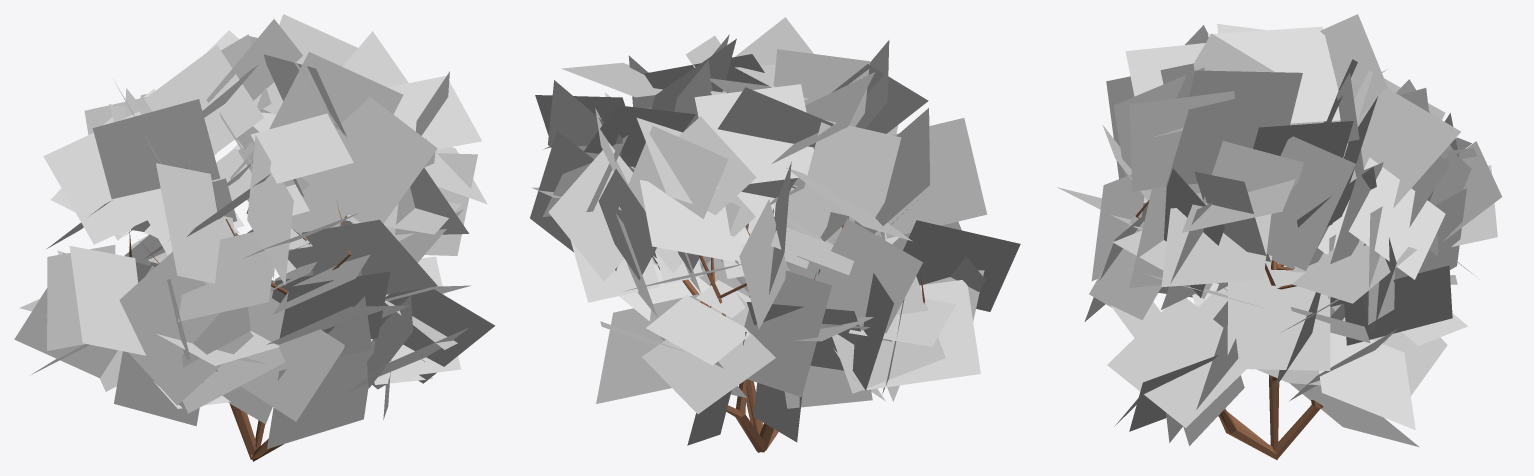
Rendered from bush.glb.
The picture shows the model from 3 angles, left to right: view 1: azimuth 30°, elevation 25°; view 2: azimuth 150°, elevation 25°; view 3: azimuth 270°, elevation 25°; orthographic projection. The views are drawn at different scales.
Visible parts, largest first — view 1: leaves1, wood1; view 2: leaves1, wood1; view 3: leaves1, wood1.
Boxes of the visible parts, <box> form: leaves1: <box>14,14,494,448</box>; wood1: <box>129,165,351,461</box>; leaves1: <box>530,17,1020,445</box>; wood1: <box>652,200,924,452</box>; leaves1: <box>1057,14,1501,447</box>; wood1: <box>1135,191,1433,459</box>.
Size of the model in its own units: 4.12 by 3.62 by 3.67.
